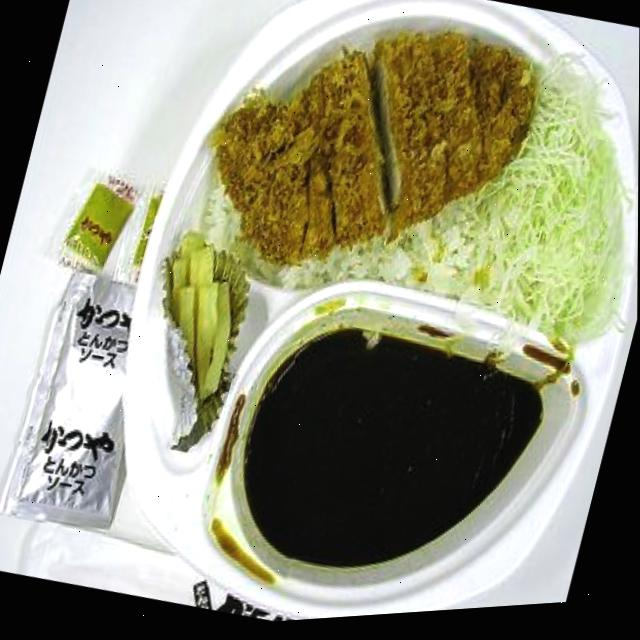猪肉菜式: (44, 0, 640, 637)
